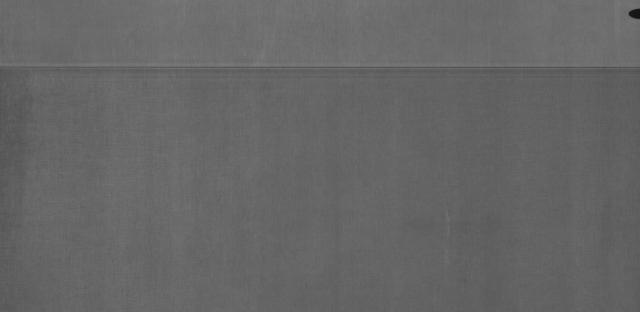punching_hole: (626, 8, 640, 21)
welding_line: (2, 58, 639, 74)
